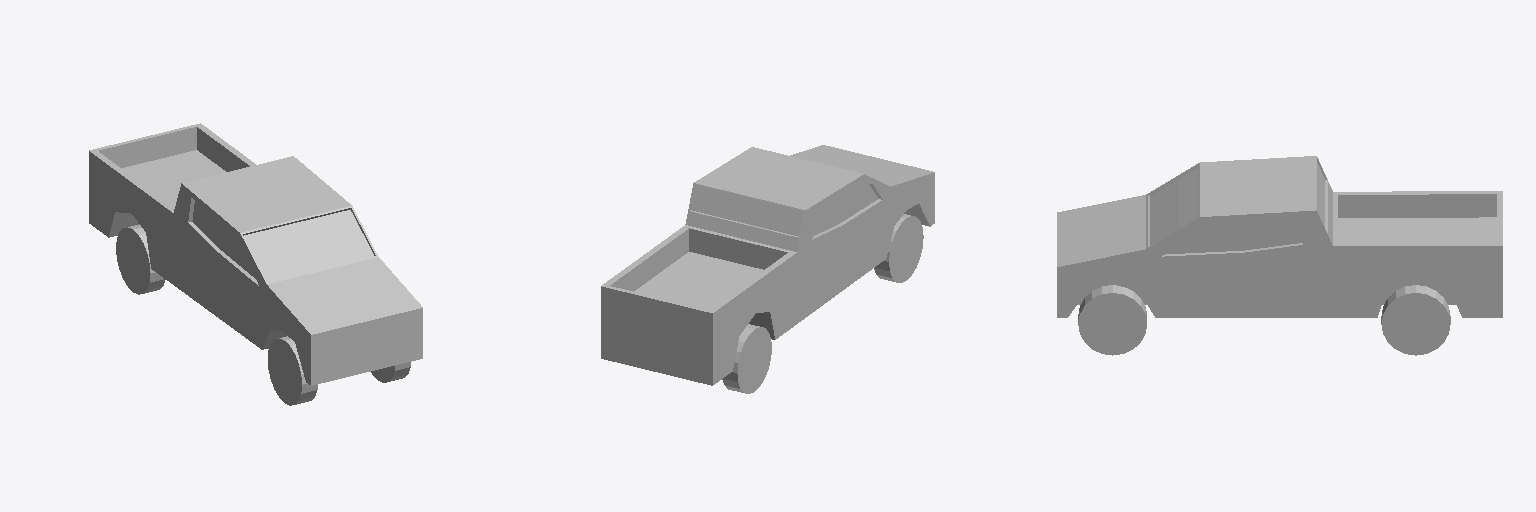
The model's file is pickup.obj.
The picture shows the model from 3 angles: view 1: azimuth 30°, elevation 25°; view 2: azimuth 150°, elevation 25°; view 3: azimuth 270°, elevation 25°; orthographic projection.
Visible parts, largest first — view 1: pCube1, pCube2, pCylinder3; view 2: pCube1, pCube2, pCylinder3; view 3: pCube1, pCylinder3, pCube2.
Part boxes in pixels (x1,y1,x2,y2): pCube1: (89, 123, 422, 385); pCube2: (192, 201, 373, 281); pCylinder3: (116, 224, 410, 405); pCube1: (601, 145, 934, 385); pCube2: (691, 185, 878, 236); pCylinder3: (722, 214, 923, 393); pCube1: (1057, 156, 1502, 317); pCylinder3: (1078, 285, 1450, 355); pCube2: (1150, 163, 1324, 254).
Size of the model in its own units: 6.19 by 7.69 by 21.28.